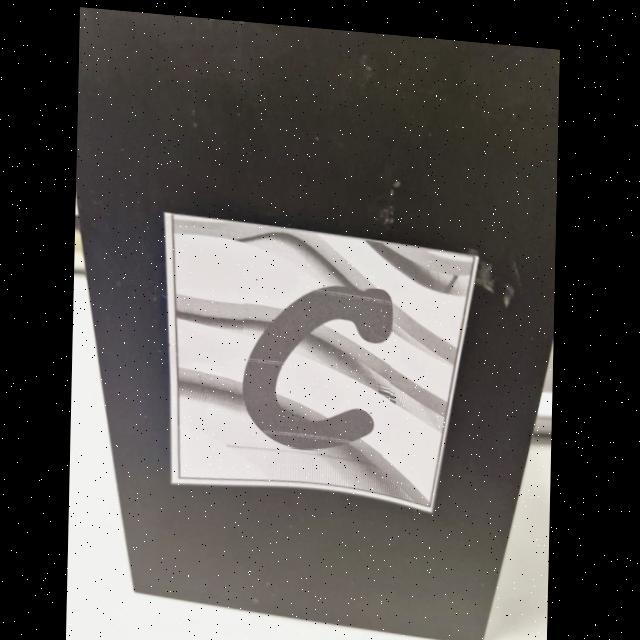C: (244, 281, 393, 444)
